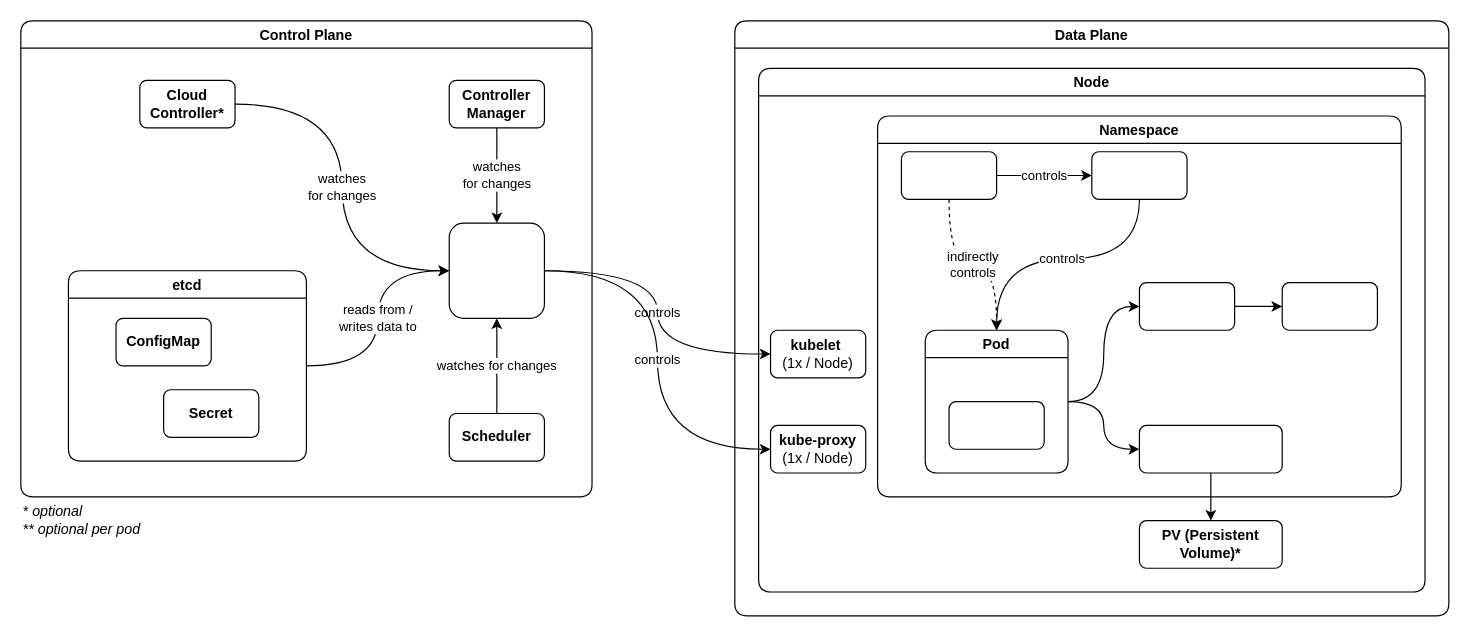
This 1470x637 diagram has some shape labels left out. The shapes that lost their labels are listed below. From the top down, each one's centre as x and y in pixels, then its label:
the point at 948,175: Deployment
the point at 1139,175: ReplicaSet
the point at 496,270: API Server
the point at 1186,305: Service
the point at 1329,305: Ingress**
the point at 996,424: Container
the point at 1210,448: PVC (Persistent Volume Claim)*
